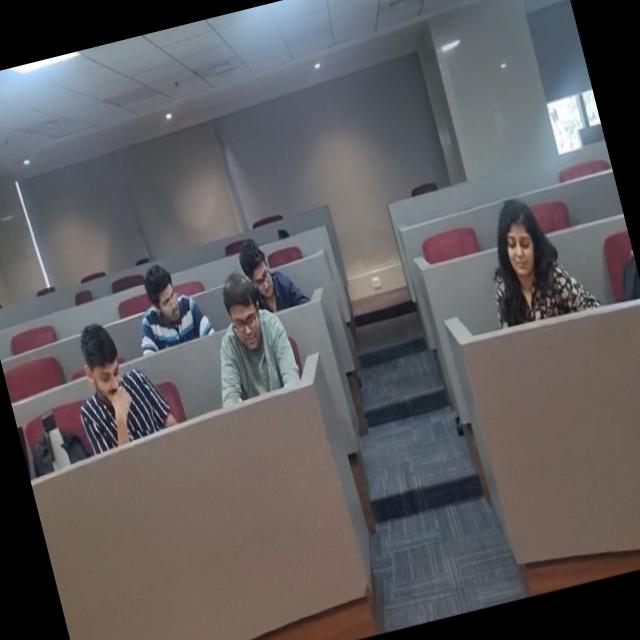cheating: (59, 302, 151, 436), (116, 238, 215, 356)
non-cheating: (188, 268, 284, 404), (476, 204, 568, 334), (219, 224, 300, 318)
